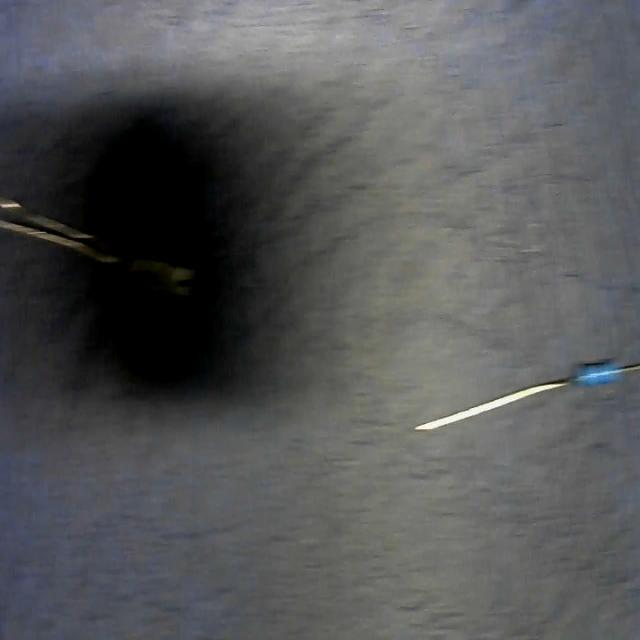resistor: (418, 351, 640, 434)
